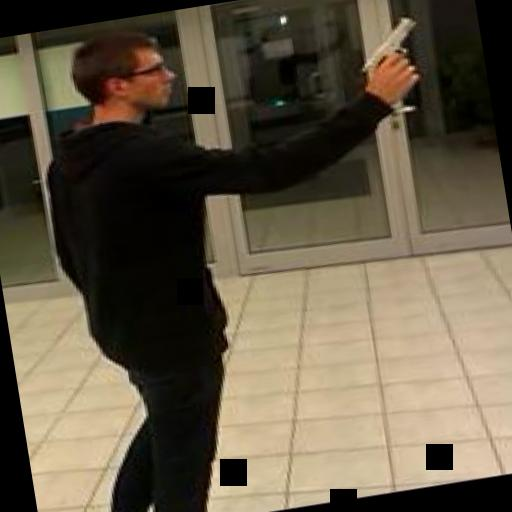Handgun: (346, 11, 422, 89)
